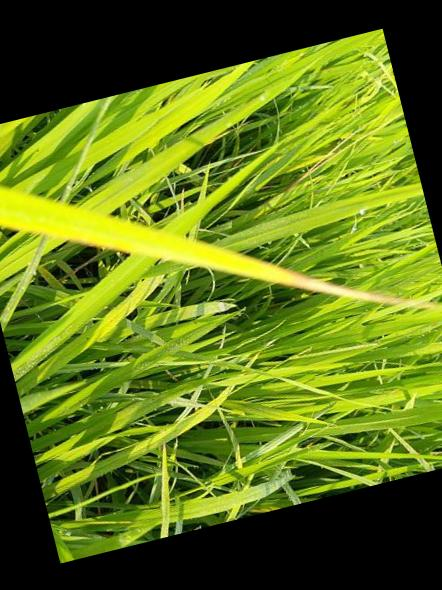Leaf Blight: (239, 261, 439, 309)
